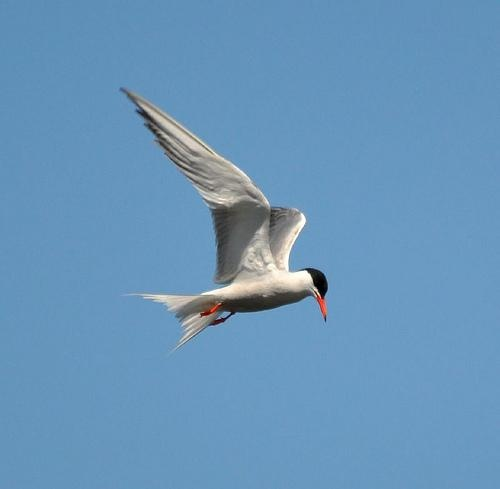bird: (108, 93, 329, 350)
